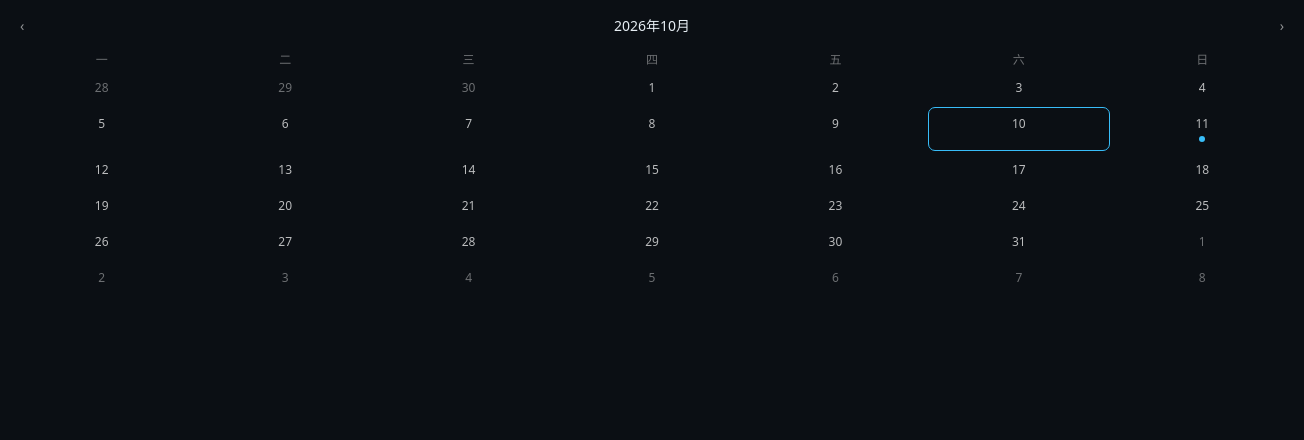
Test: ⭐ 临近提醒：明天截止 ⇒ urgent
Expected: the text "2026年10月" is shown, x1=614 y1=16 x2=690 y2=36
Click the button named "10 月 11 日": [1202, 129] box x1=1113 y1=108 x2=1292 y2=150
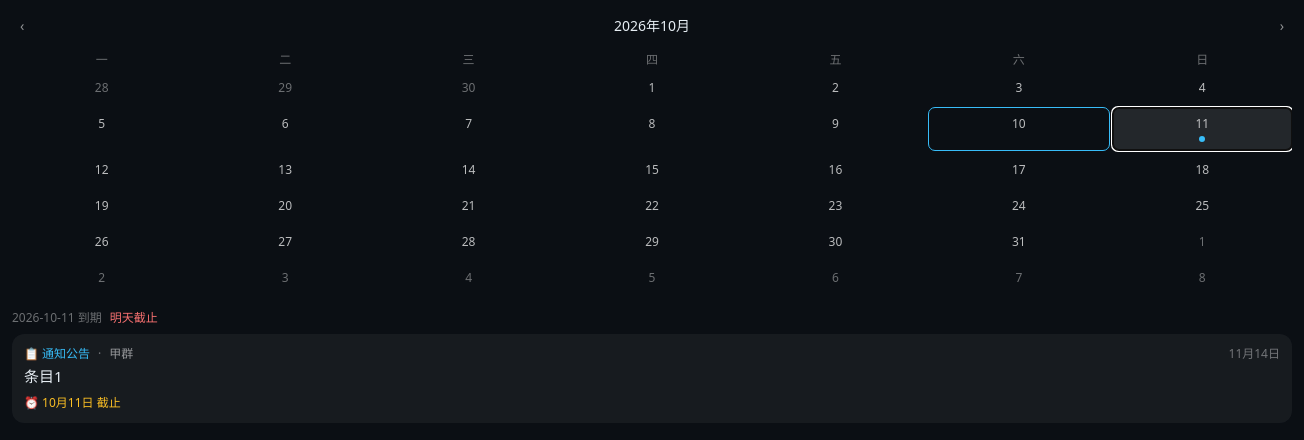
Expected: the text "明天截止" is shown, x1=110 y1=309 x2=158 y2=326
